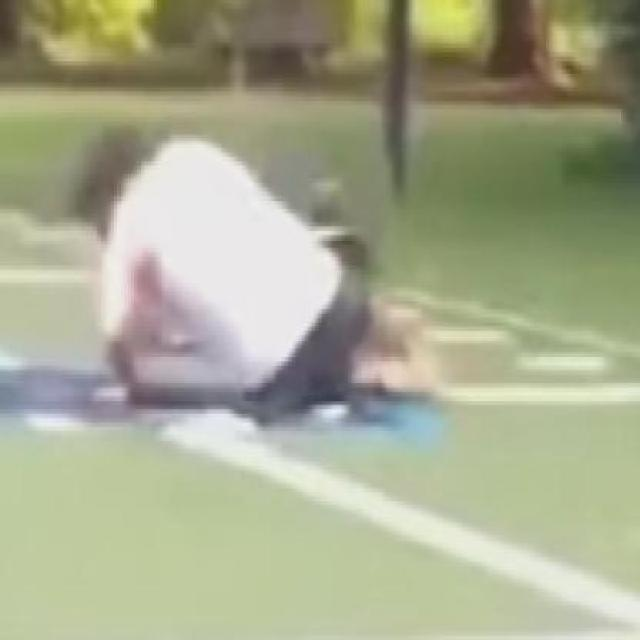fall: (81, 122, 414, 436)
